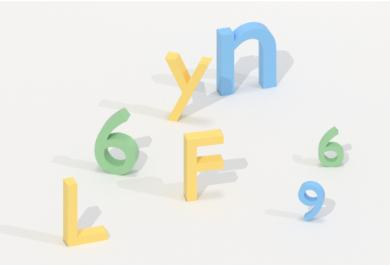6: (87, 104, 143, 180), (315, 123, 347, 171)
9: (293, 176, 328, 225)
F: (179, 125, 227, 206)
L: (60, 172, 113, 250)
n: (212, 16, 282, 101)
y: (159, 46, 214, 125)
